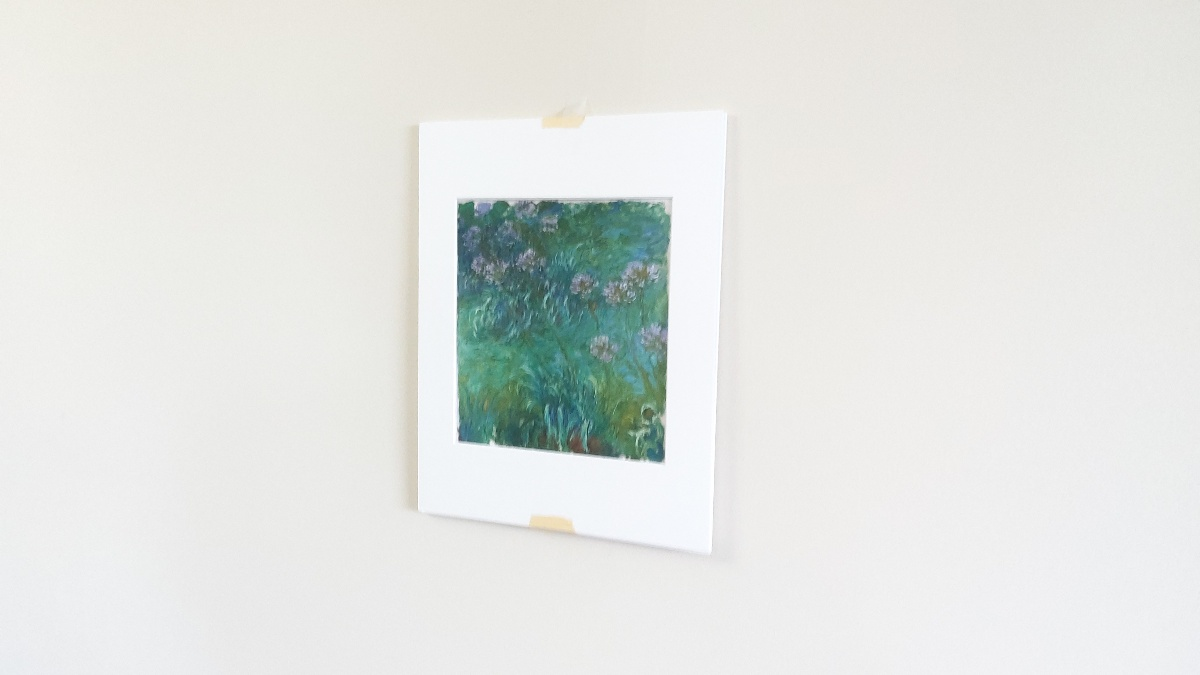painting: (439, 185, 673, 474)
